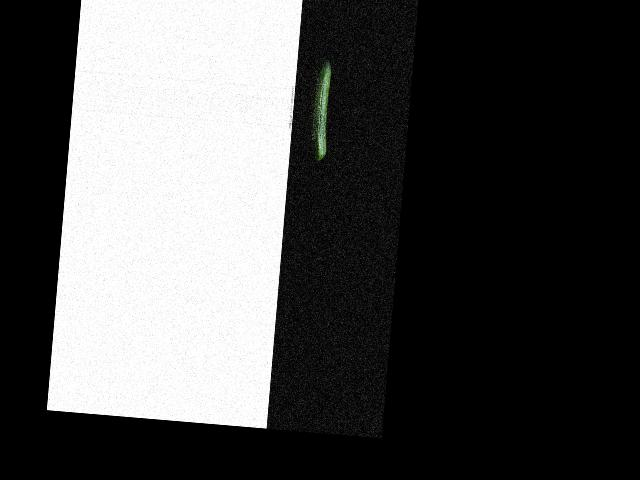cucumber: (309, 58, 333, 162)
